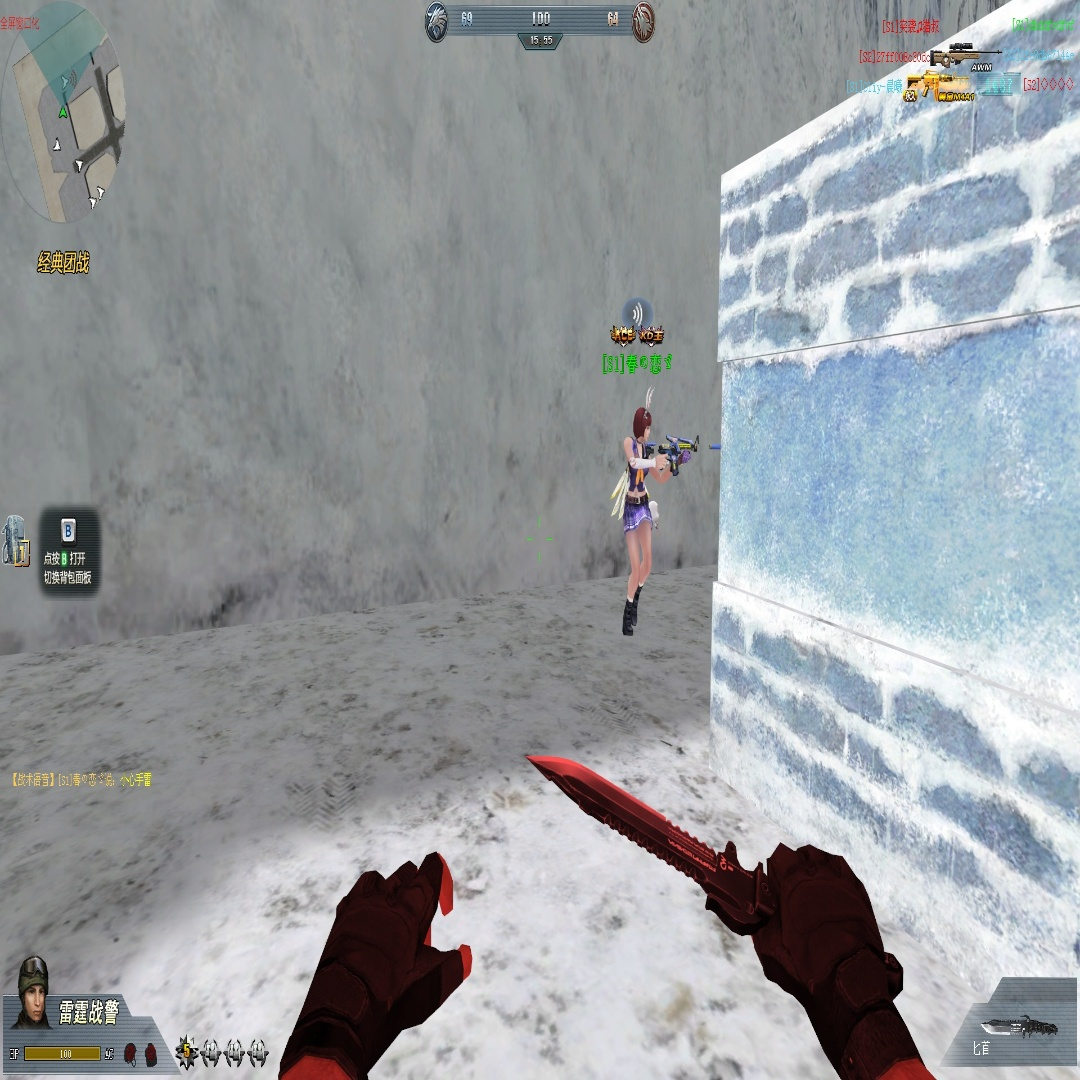ct: (612, 406, 675, 637)
